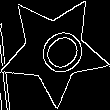O_SW: (22, 17, 87, 83)
